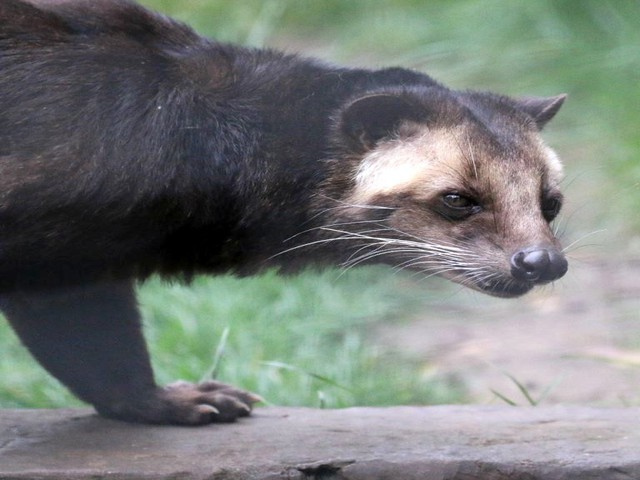civet: (3, 4, 578, 428)
